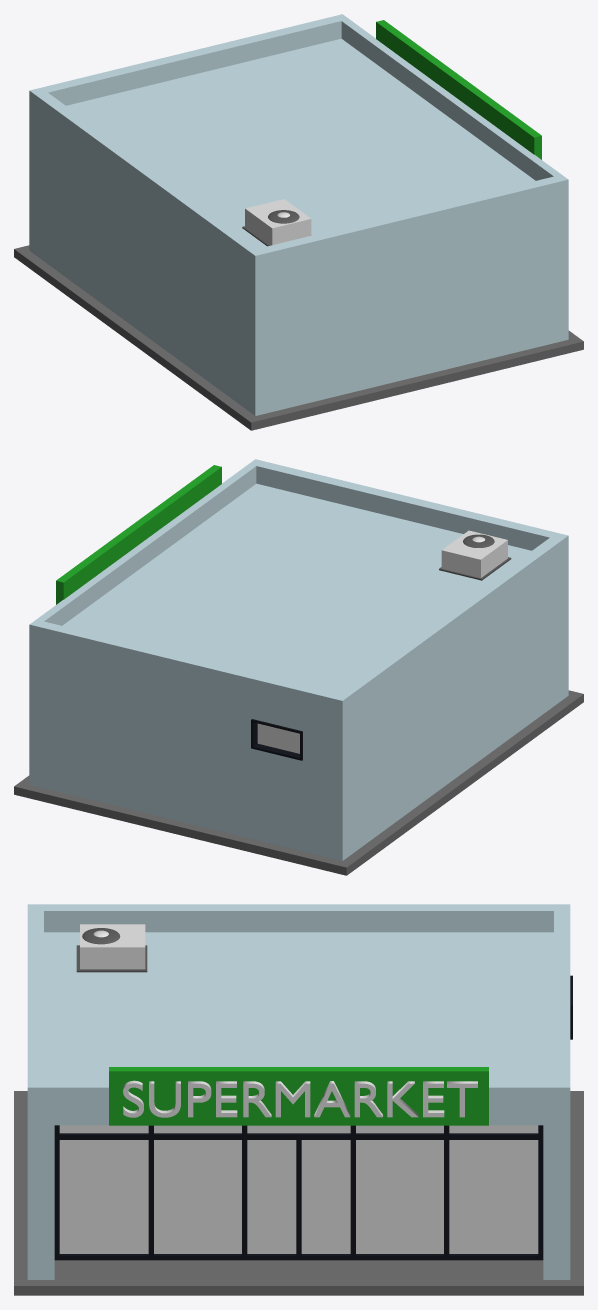
File: SuperMarket.fbx
The picture shows the model from 3 angles, top to bottom: view 1: azimuth 30°, elevation 25°; view 2: azimuth 150°, elevation 25°; view 3: azimuth 270°, elevation 25°; orthographic projection. The views are drawn at different scales.
Visible parts, largest first — view 1: Steni, Cokol, Куб, Куб.002; view 2: Steni, Cokol, Куб, Куб.002, Okno.001, Куб.001; view 3: Steni, Okno, Cokol, Куб, Rama, SUPERMARKET, Куб.002.
Part boxes in pixels (bbox=[...]): Steni: bbox=[29, 14, 568, 415]; Cokol: bbox=[14, 245, 583, 430]; Куб: bbox=[376, 20, 541, 159]; Куб.002: bbox=[245, 199, 311, 245]; Steni: bbox=[29, 459, 568, 860]; Cokol: bbox=[14, 690, 583, 875]; Куб: bbox=[56, 465, 221, 604]; Куб.002: bbox=[441, 530, 507, 578]; Okno.001: bbox=[257, 723, 299, 753]; Куб.001: bbox=[251, 719, 302, 760]; Steni: bbox=[27, 904, 570, 1279]; Okno: bbox=[59, 1125, 538, 1253]; Cokol: bbox=[14, 1091, 583, 1295]; Куб: bbox=[109, 1067, 488, 1125]; Rama: bbox=[54, 1125, 543, 1260]; SUPERMARKET: bbox=[123, 1080, 477, 1117]; Куб.002: bbox=[80, 924, 145, 969].
Size of the model in its own units: 855 by 453 by 1050.
